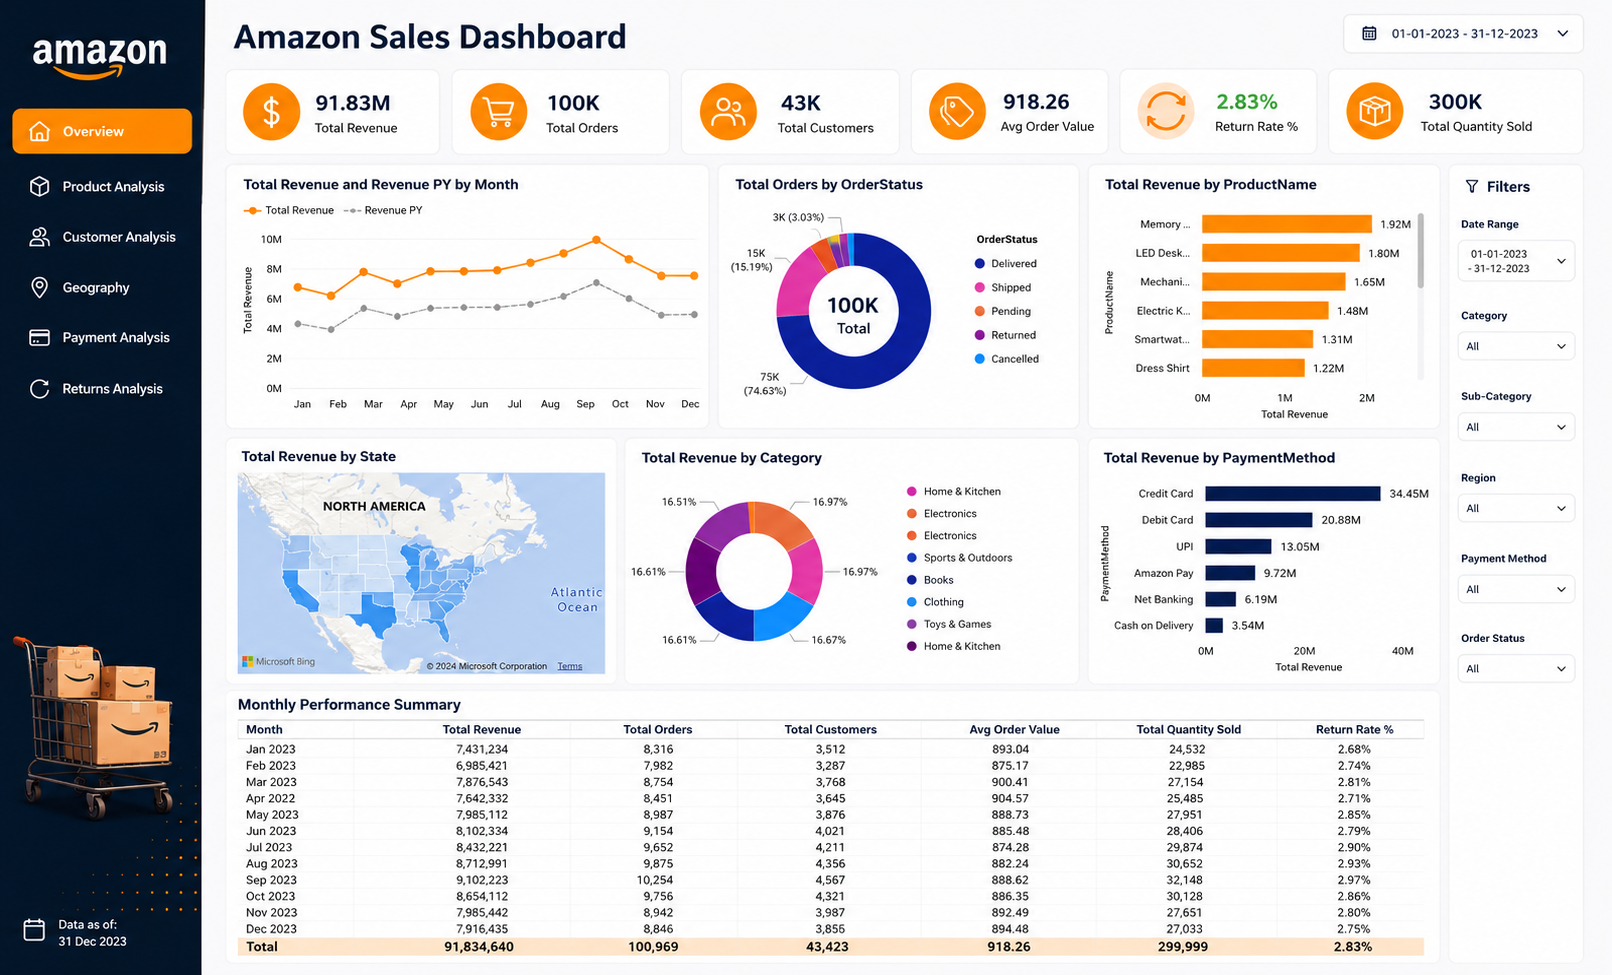

The dashboard page shown, as its layout file describes it:
{"tool":"powerbi","page":{"name":"Page 1","canvas":[1280,720],"ordinal":0},"visuals":[{"type":"cardVisual","fields":{"Data":["Amazon.Total Revenue"]},"box":[18.6,97.1,190,114.3],"z":0},{"type":"cardVisual","fields":{"Data":["Amazon.Total Orders"]},"box":[220,97.1,177.1,114.3],"z":1000},{"type":"cardVisual","fields":{"Data":["Amazon.Total Customers"]},"box":[417.1,98.6,185.7,112.9],"z":2000},{"type":"cardVisual","title":"Total Quantity Sold","fields":{"Data":["Amazon.Total Quantity"]},"box":[1044.3,101.4,205.7,111.4],"z":3000},{"type":"cardVisual","fields":{"Data":["Amazon.Return Rate %"]},"box":[832.9,101.4,198.6,110],"z":4000},{"type":"cardVisual","fields":{"Data":["Amazon.Avg Order Value"]},"box":[617.1,100,191.4,111.4],"z":5000},{"type":"lineChart","fields":{"Y":["Amazon.Total Revenue","Amazon.Revenue PY"],"Category":["DateTable.Date.Variation.Date Hierarchy.Month"]},"box":[18.6,228.6,378.6,217.1],"z":6000},{"type":"donutChart","fields":{"Category":["Amazon.Category"],"Y":["Amazon.Total Revenue"]},"box":[417.1,460,391.4,260],"z":7000},{"type":"barChart","fields":{"Y":["Amazon.Total Revenue"],"Category":["Amazon.ProductName"]},"box":[832.9,228.6,417.1,217.1],"z":8000},{"type":"pieChart","fields":{"Category":["Amazon.OrderStatus"],"Y":["Amazon.Total Orders"]},"box":[417.1,228.6,391.4,217.1],"z":9000},{"type":"clusteredBarChart","fields":{"Category":["Amazon.PaymentMethod"],"Y":["Amazon.Total Revenue"]},"box":[832.9,460,417.1,260],"z":10000},{"type":"filledMap","fields":{"Category":["Amazon.State"]},"box":[18.6,460,378.6,260],"z":11000},{"type":"shape","box":[0,0,1279.8,85.9],"z":12000},{"type":"textbox","box":[28.6,20,640.5,66.3],"z":13000},{"type":"slicer","fields":{"Values":["Amazon.State"]},"box":[875.5,15.5,110.4,55.2],"z":14000},{"type":"slicer","fields":{"Values":["Amazon.Category"]},"box":[1000,15.5,110.4,55.2],"z":15000},{"type":"slicer","fields":{"Values":["Amazon.Brand"]},"box":[1123.6,15.5,110.4,55.2],"z":16000}]}

Visuals, with their boxes on the page's 1280x720 design canvas (x1, y1, x2, y2). These are canvas units, not pixel positions in the 1612x975 screenshot, which may show the page scaled, cropped or inside an application window:
cardVisual - Amazon.Total Revenue: [19, 97, 209, 211]
cardVisual - Amazon.Total Orders: [220, 97, 397, 211]
cardVisual - Amazon.Total Customers: [417, 99, 603, 212]
"Total Quantity Sold" cardVisual: [1044, 101, 1250, 213]
cardVisual - Amazon.Return Rate %: [833, 101, 1032, 211]
cardVisual - Amazon.Avg Order Value: [617, 100, 808, 211]
lineChart - Amazon.Total Revenue x Amazon.Revenue PY: [19, 229, 397, 446]
donutChart - Amazon.Category x Amazon.Total Revenue: [417, 460, 808, 720]
barChart - Amazon.Total Revenue x Amazon.ProductName: [833, 229, 1250, 446]
pieChart - Amazon.OrderStatus x Amazon.Total Orders: [417, 229, 808, 446]
clusteredBarChart - Amazon.PaymentMethod x Amazon.Total Revenue: [833, 460, 1250, 720]
filledMap - Amazon.State: [19, 460, 397, 720]
shape: [0, 0, 1280, 86]
textbox: [29, 20, 669, 86]
slicer - Amazon.State: [876, 16, 986, 71]
slicer - Amazon.Category: [1000, 16, 1110, 71]
slicer - Amazon.Brand: [1124, 16, 1234, 71]
